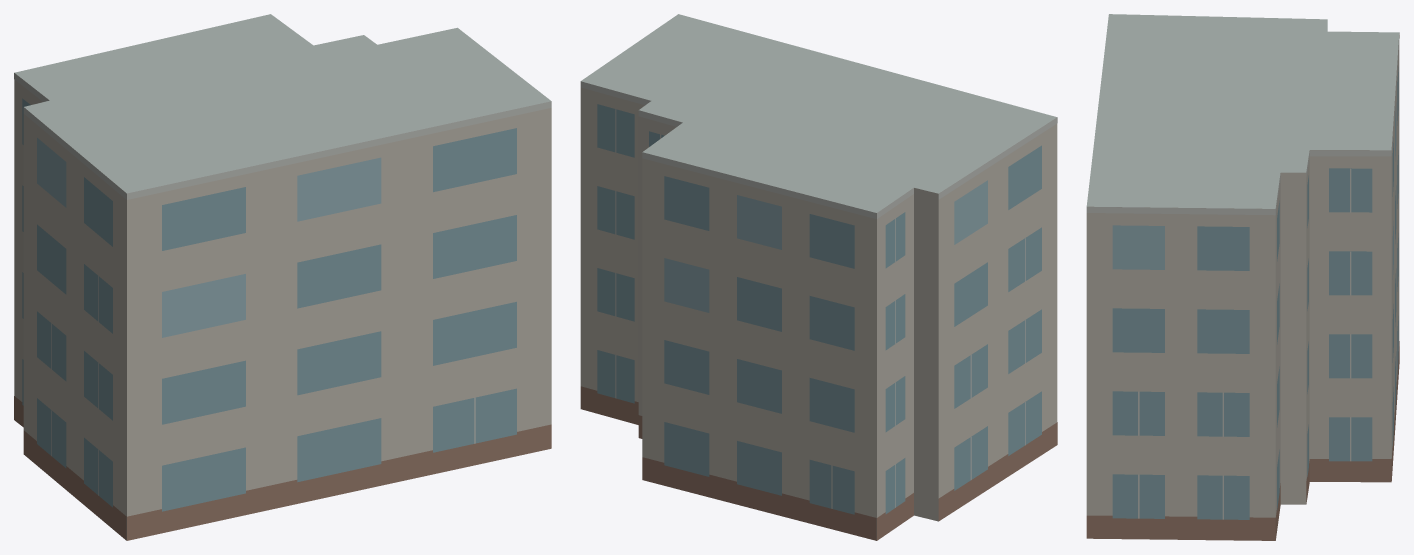
The model's file is survey-upis-32982630.glb.
3 views of the same model, side by side, from view 1: azimuth 30°, elevation 25°; view 2: azimuth 150°, elevation 25°; view 3: azimuth 270°, elevation 25° (orthographic). The views are drawn at different scales.
Visible parts, largest first — view 1: survey-upis-32982630.tmp; view 2: survey-upis-32982630.tmp; view 3: survey-upis-32982630.tmp.
Part boxes in pixels (box(x1,y1,x2,y2)): survey-upis-32982630.tmp: box(14, 14, 551, 540); survey-upis-32982630.tmp: box(580, 14, 1057, 540); survey-upis-32982630.tmp: box(1086, 14, 1399, 540).
Bounding box in the file's own units: 16.38 × 13 × 11.11.
